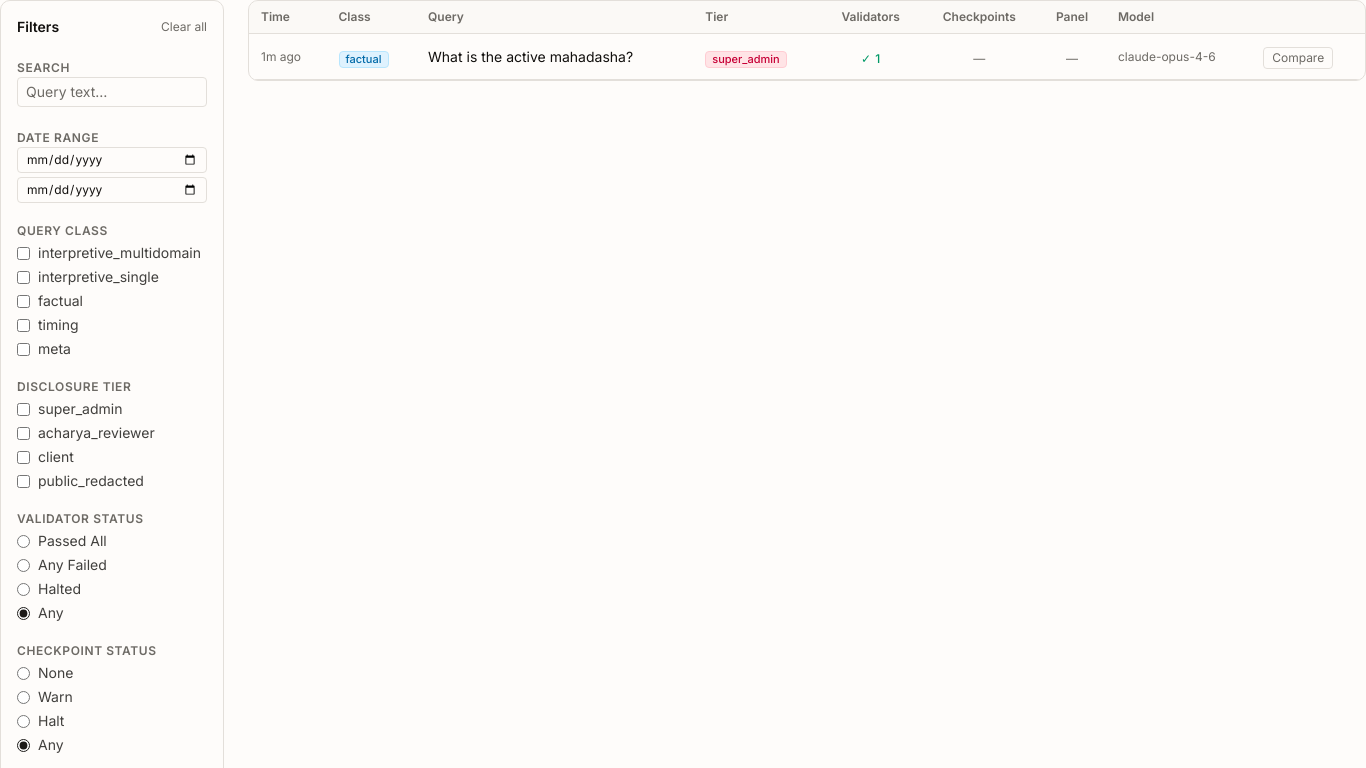
Test: AuditListClient › marks row as selected when compare toggled
This screenshot has width=1366, height=768.
Click the button with aria-label "Add to compare".
click(1298, 58)  # box x1=1263 y1=47 x2=1333 y2=69
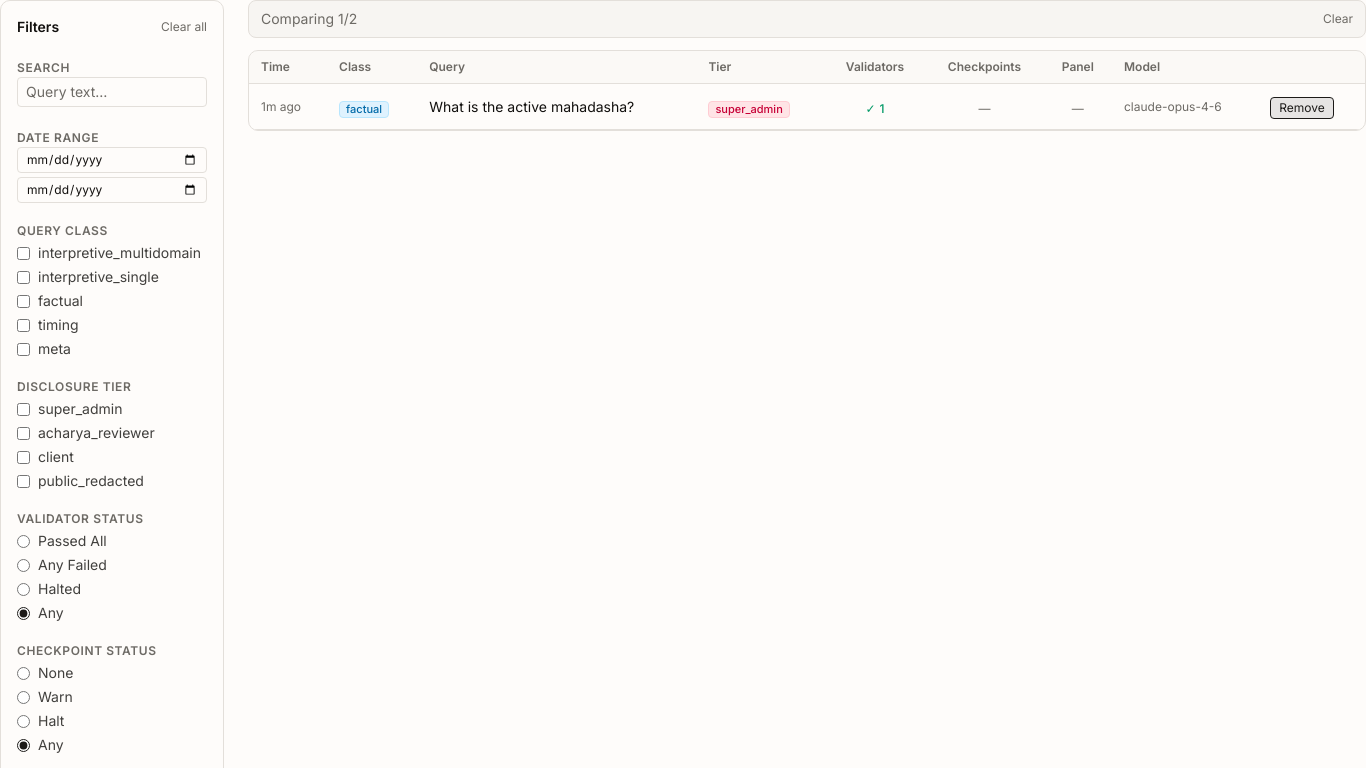
Expected: the button with aria-label "Remove from compare" is shown, x1=1270 y1=97 x2=1334 y2=119
